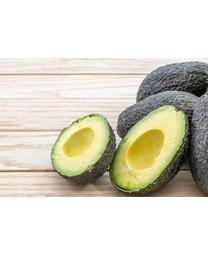avocado: (111, 104, 189, 195), (50, 114, 117, 184)
